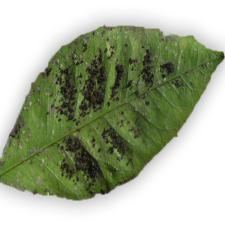Melanose: (28, 42, 201, 198)
